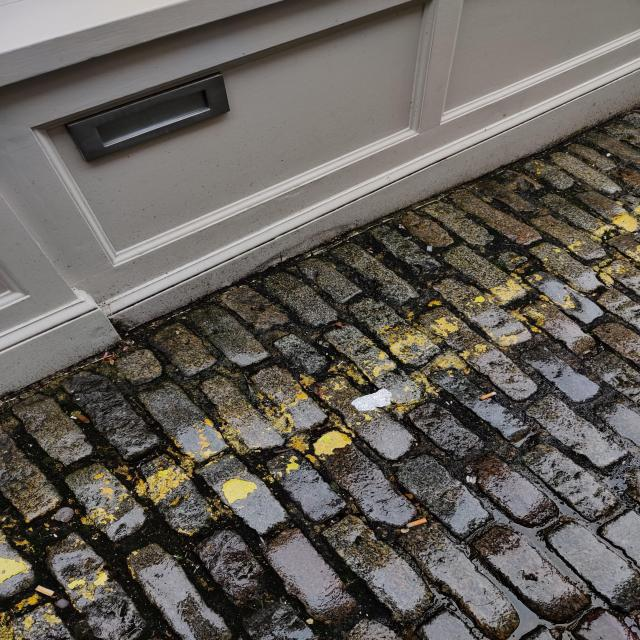litter: (351, 388, 396, 413), (402, 516, 429, 532), (474, 389, 500, 403)
